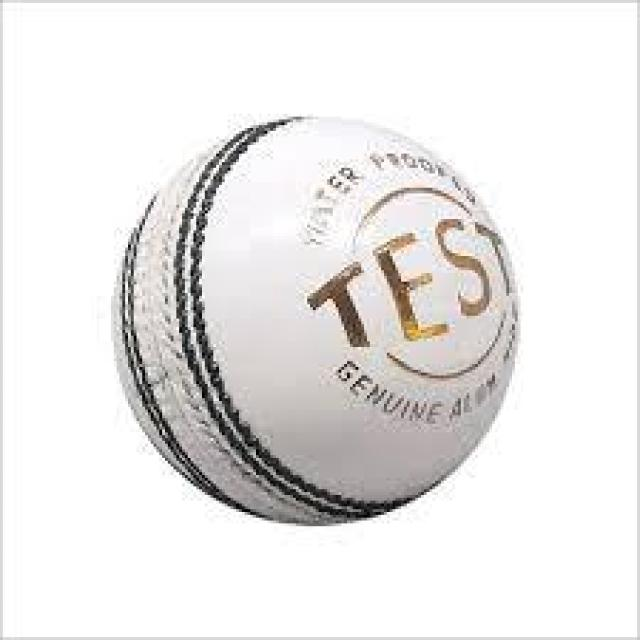ball: (116, 114, 524, 526)
